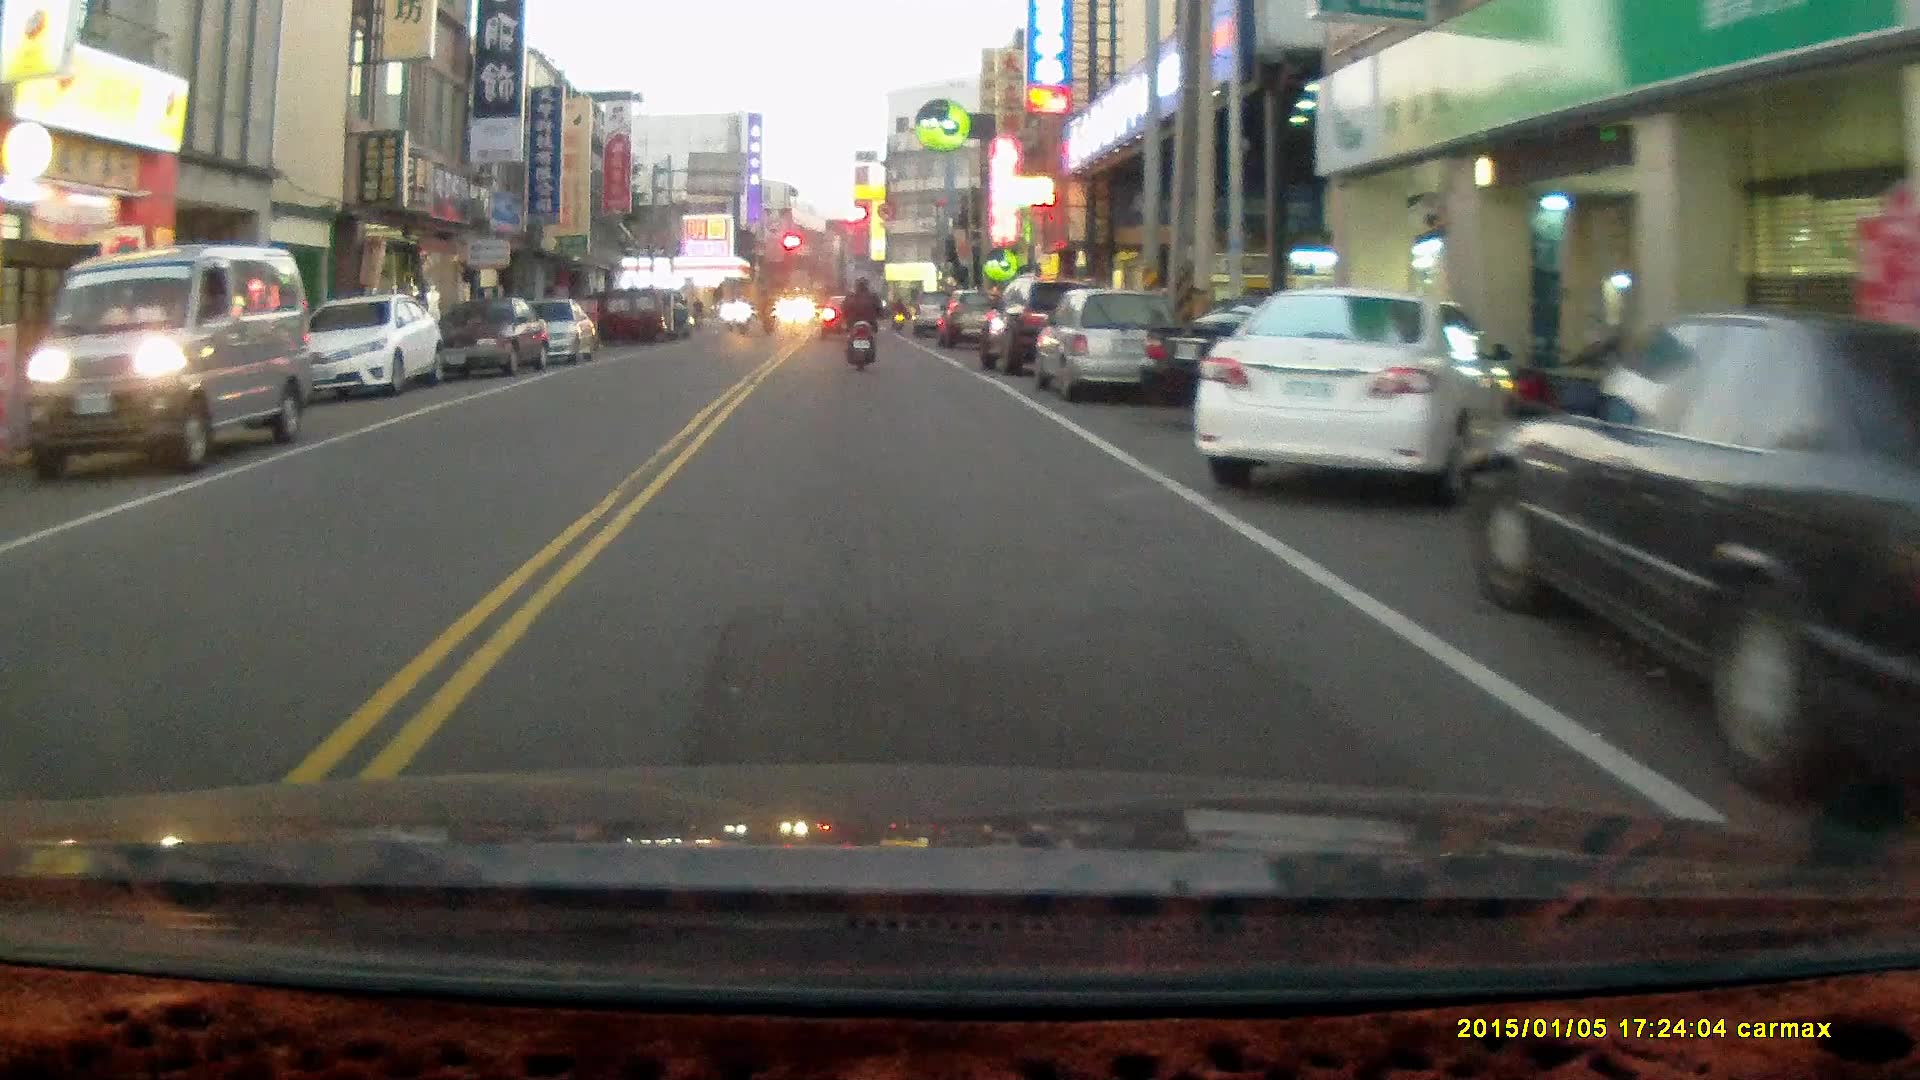rider: (840, 276, 884, 377), (729, 295, 752, 335)
vehicle: (1461, 312, 1920, 780), (1194, 290, 1509, 509), (13, 245, 310, 474), (1135, 299, 1457, 433), (294, 294, 444, 403), (1034, 291, 1187, 398), (974, 286, 1116, 378), (431, 297, 553, 384), (500, 301, 595, 374)
